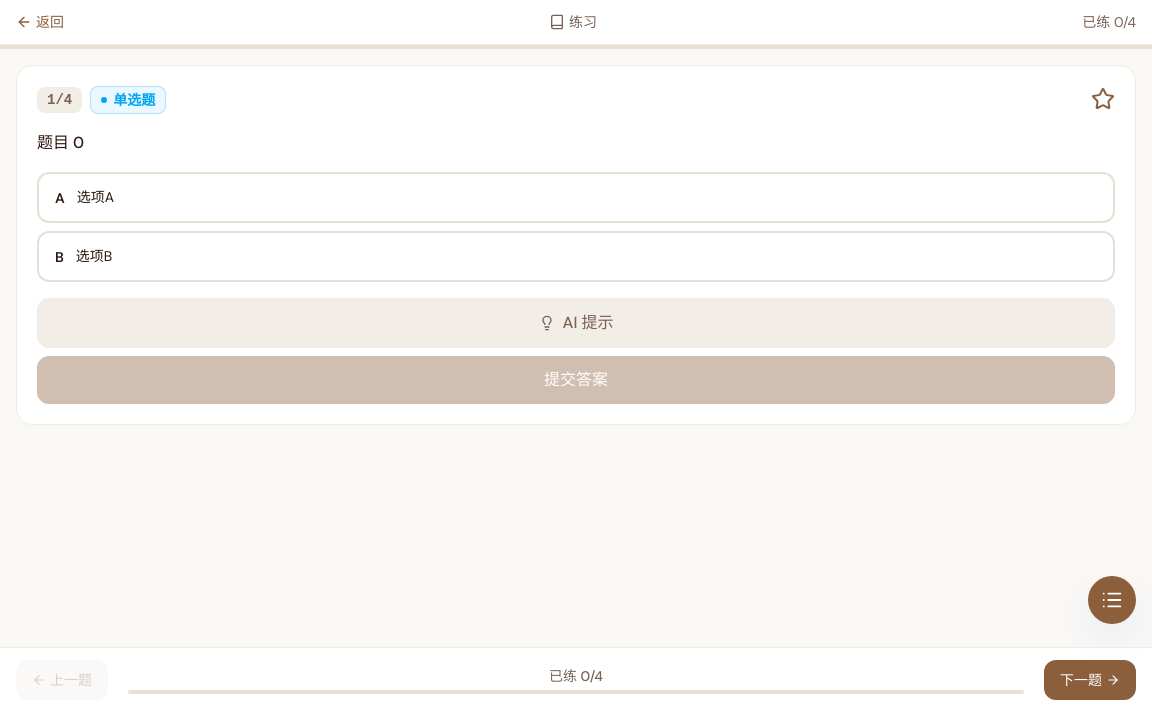
Test: random mode navigation › prev button is enabled when not on first question in random mode
Expected: the text "题目 0" is shown, top-left (37, 132), bottom-right (84, 153)
Click the text "选项A" at (95, 197), box top-left (77, 186), bottom-right (114, 209)
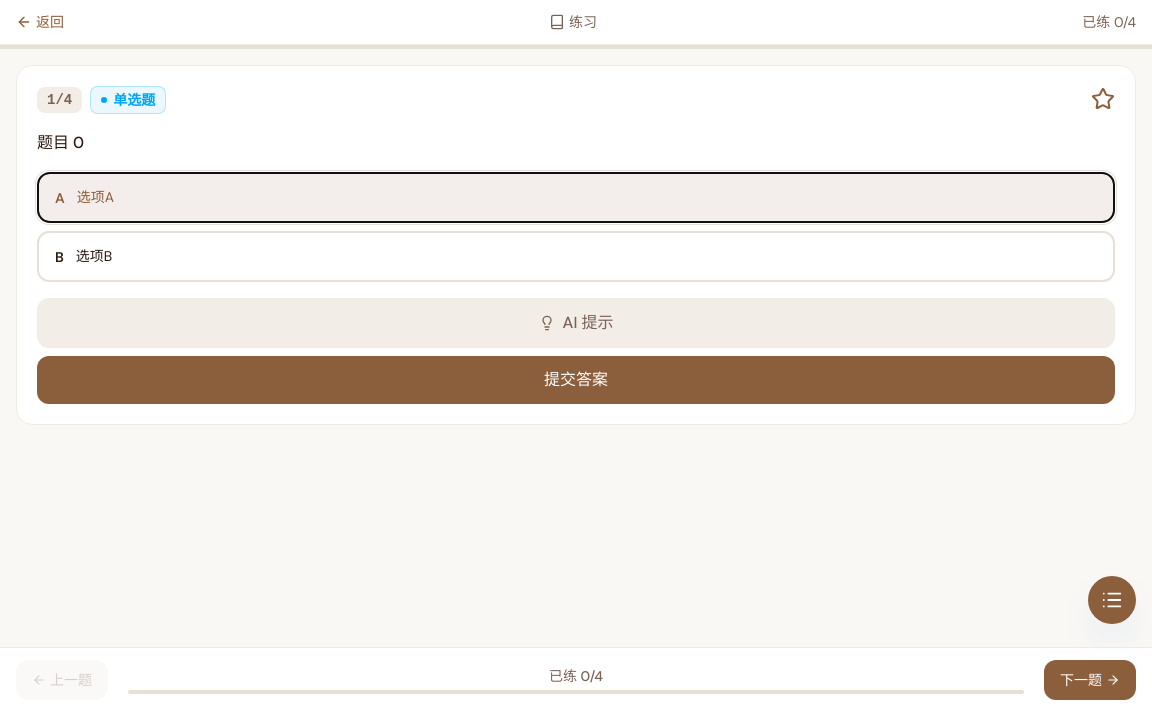
Click the button "提交答案" at (576, 380), box top-left (37, 356), bottom-right (1115, 404)
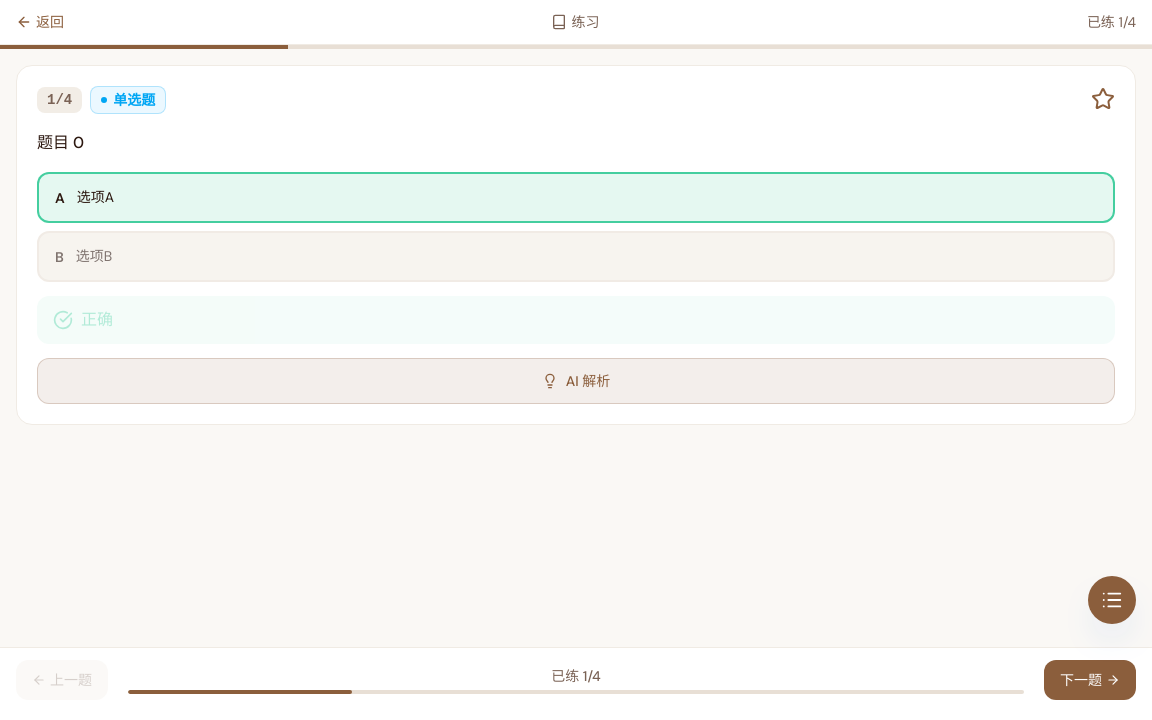
Click the button "下一题" at (1090, 680), box top-left (1044, 660), bottom-right (1136, 700)
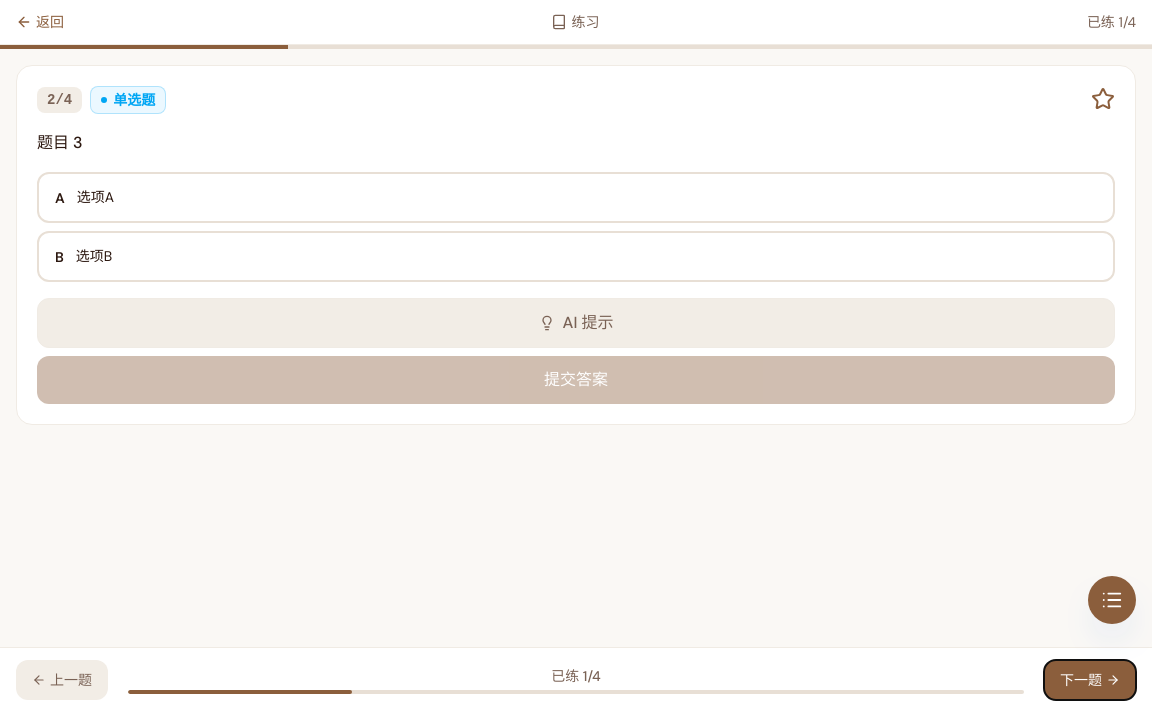
Expected: the text "题目 3" is shown, top-left (37, 132), bottom-right (83, 153)
Now the button "上一题" is enabled, box top-left (16, 660), bottom-right (108, 700)
